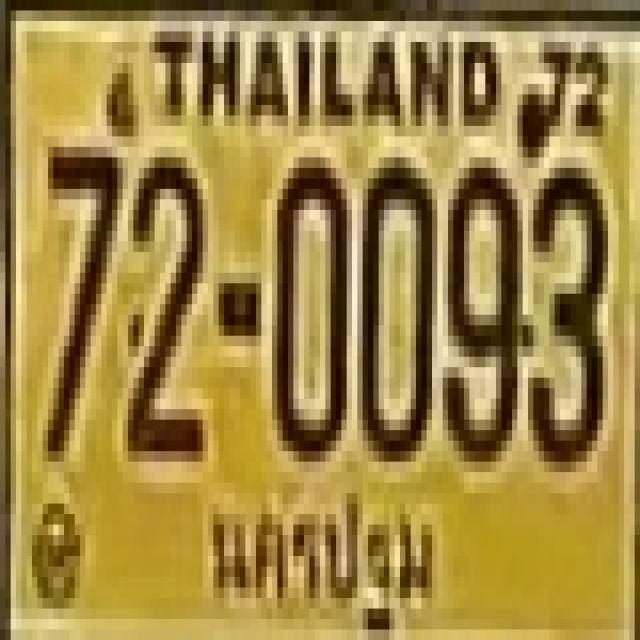0: (357, 147, 432, 451), (269, 147, 344, 451)
2: (125, 147, 200, 451)
3: (522, 157, 602, 462)
7: (43, 136, 117, 452)
9: (440, 158, 520, 452)
NPT: (194, 487, 447, 640)
